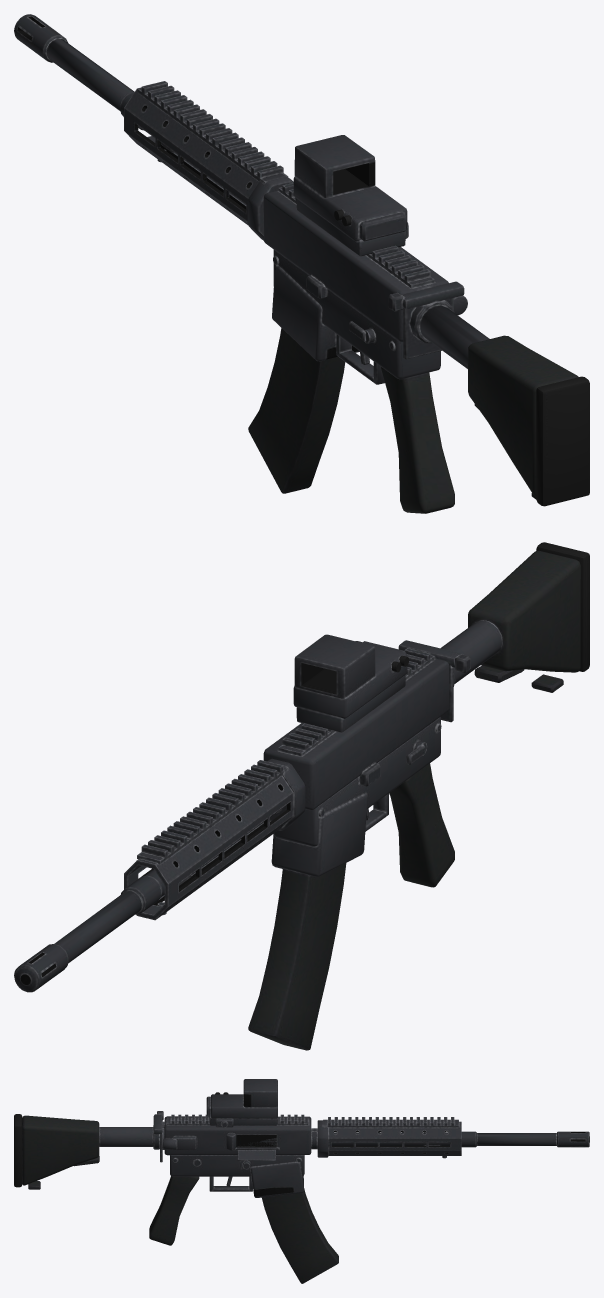
Rendered from rifle.glb.
3 renders of one model, top to bottom at view 1: azimuth 30°, elevation 25°; view 2: azimuth 150°, elevation 25°; view 3: azimuth 270°, elevation 25°, orthographic. The views are drawn at different scales.
Parts seen in each view (by area): view 1: Rifle; view 2: Rifle; view 3: Rifle.
Part boxes in pixels (x1,y1,x2,y2): Rifle: (14,14,589,513); Rifle: (14,542,589,1050); Rifle: (14,1079,589,1283).
Size of the model in its own units: 0.08 by 0.316 by 0.8425.
Materials: 1 (1 with a texture image).
